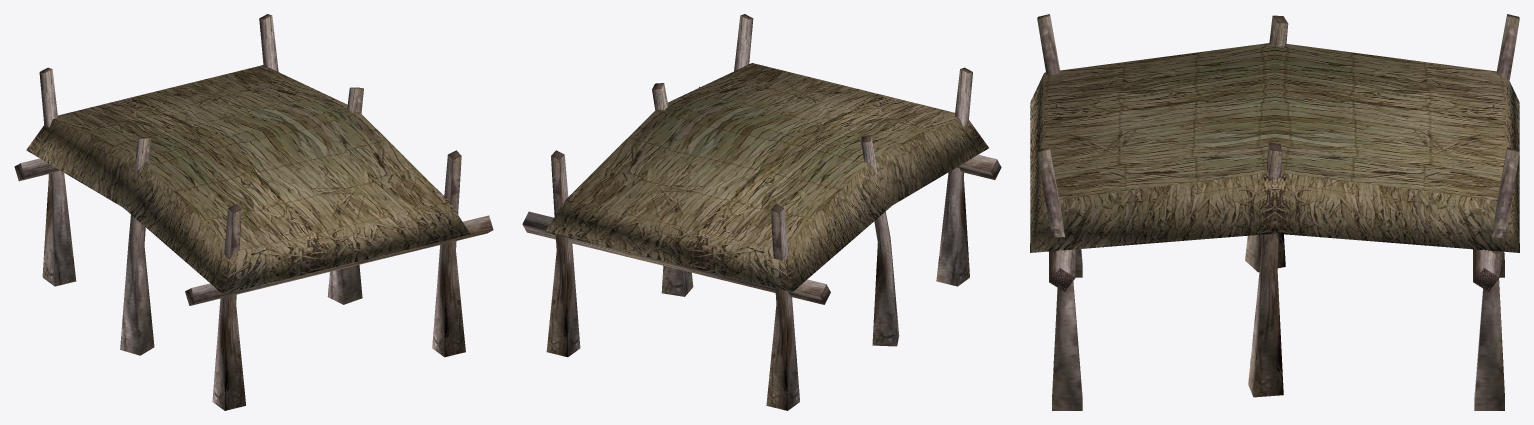
File: house5-05.obj
The picture shows the model from 3 angles, left to right: view 1: azimuth 30°, elevation 25°; view 2: azimuth 150°, elevation 25°; view 3: azimuth 270°, elevation 25°; orthographic projection. The views are drawn at different scales.
Visible parts, largest first — view 1: Malla de house5-05; view 2: Malla de house5-05; view 3: Malla de house5-05.
Part boxes in pixels (box(x1,y1,x2,y2)): Malla de house5-05: box(14, 14, 493, 410); Malla de house5-05: box(522, 14, 1001, 410); Malla de house5-05: box(1030, 14, 1519, 410).
Bounding box in the file's own units: 5.43 × 3.58 × 6.22.
1 material, 1 textured.
